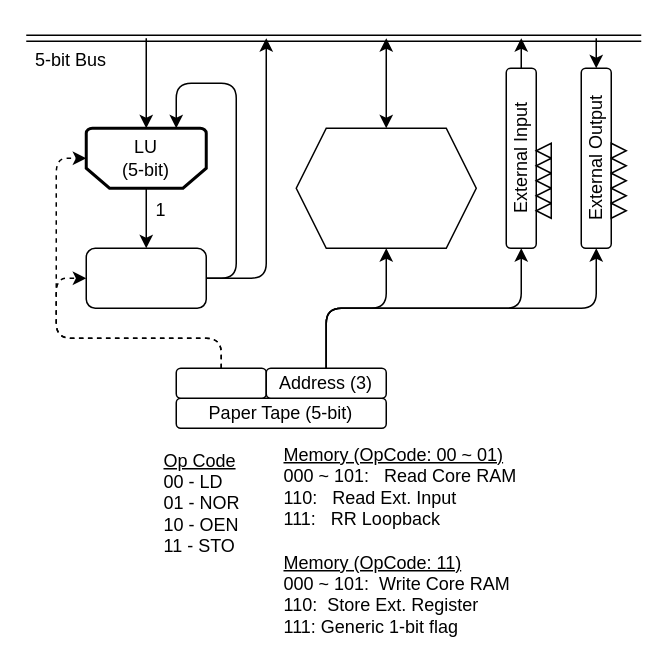
Some shapes in this 668 by 665 pixel diagram are drawn without their labels. Here are the shapes that lost their labels. From the top down, the centre of each, then its label:
point 385,187: Core Memory (3-bit Address) (5-bit Data)
point 145,277: RR Register (5-bit)
point 220,382: OpC (2)
